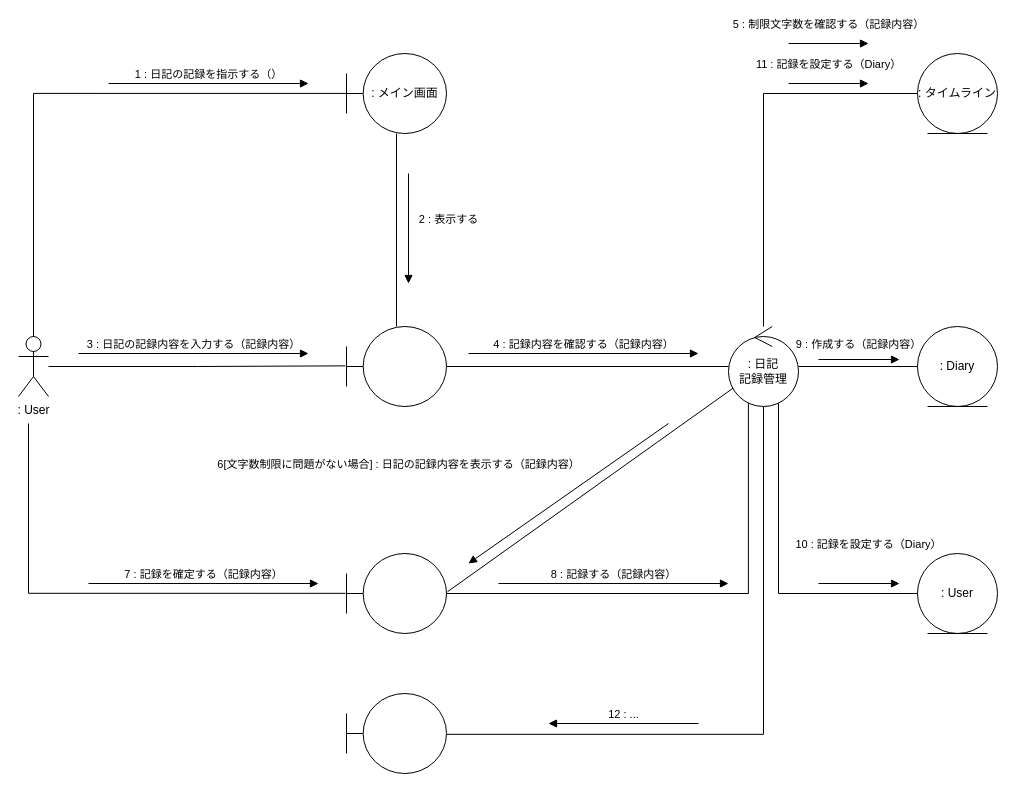
This 1015x791 diagram has some shape labels left out. Each missing label, with the centre of its shape:
": 操作の確認を行う画面" goes at pixel 396 593.
": 日記を記録する入力画面" goes at pixel 396 366.
": 過去の日記を表示する画面" goes at pixel 396 733.
